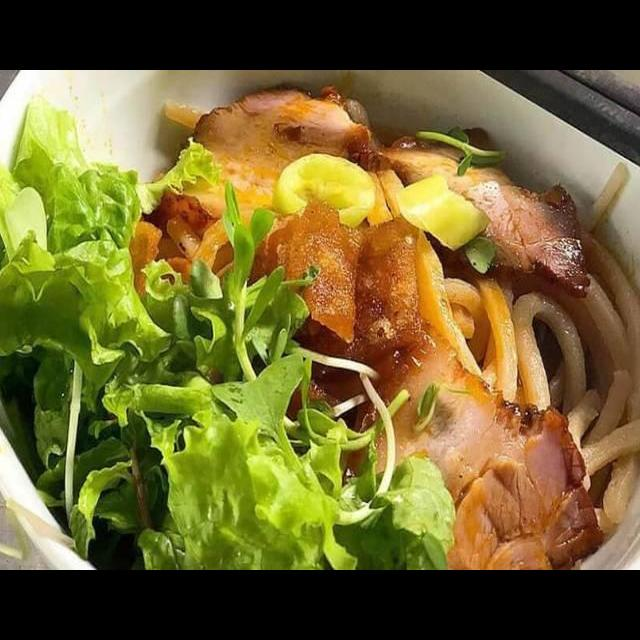banh da: (306, 205, 433, 387), (243, 190, 367, 350), (117, 214, 247, 312)
mi: (409, 223, 640, 539)
mi quang: (0, 106, 640, 570)
thit heo: (336, 320, 611, 570), (348, 121, 597, 303), (140, 79, 374, 263)
